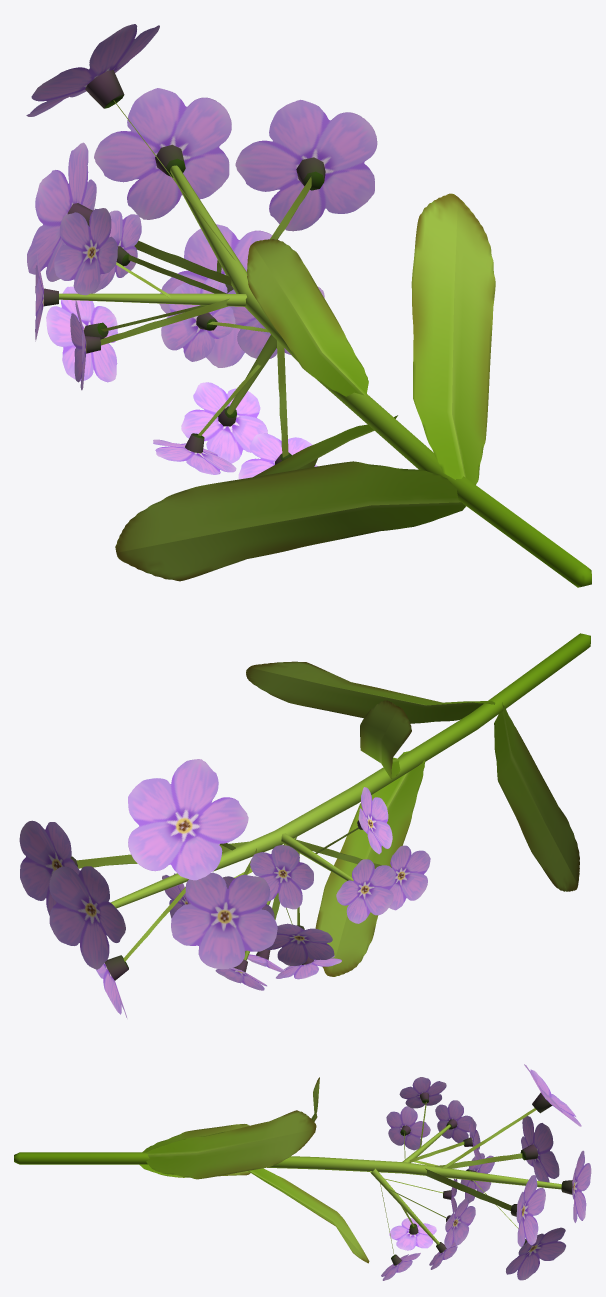
Rendered from SM_Forgetmenot_lilac_big.fbx.
3 renders of one model, top to bottom at view 1: azimuth 30°, elevation 25°; view 2: azimuth 150°, elevation 25°; view 3: azimuth 270°, elevation 25°, orthographic. The views are drawn at different scales.
Visible parts, largest first — view 1: Forgetmenot_lilac_big; view 2: Forgetmenot_lilac_big; view 3: Forgetmenot_lilac_big.
Part boxes in pixels (x1,y1,x2,y2): Forgetmenot_lilac_big: (26,24,591,587); Forgetmenot_lilac_big: (19,633,590,1018); Forgetmenot_lilac_big: (14,1064,591,1280).
Bounding box in the file's own units: 48.68 × 36.03 × 89.7.
